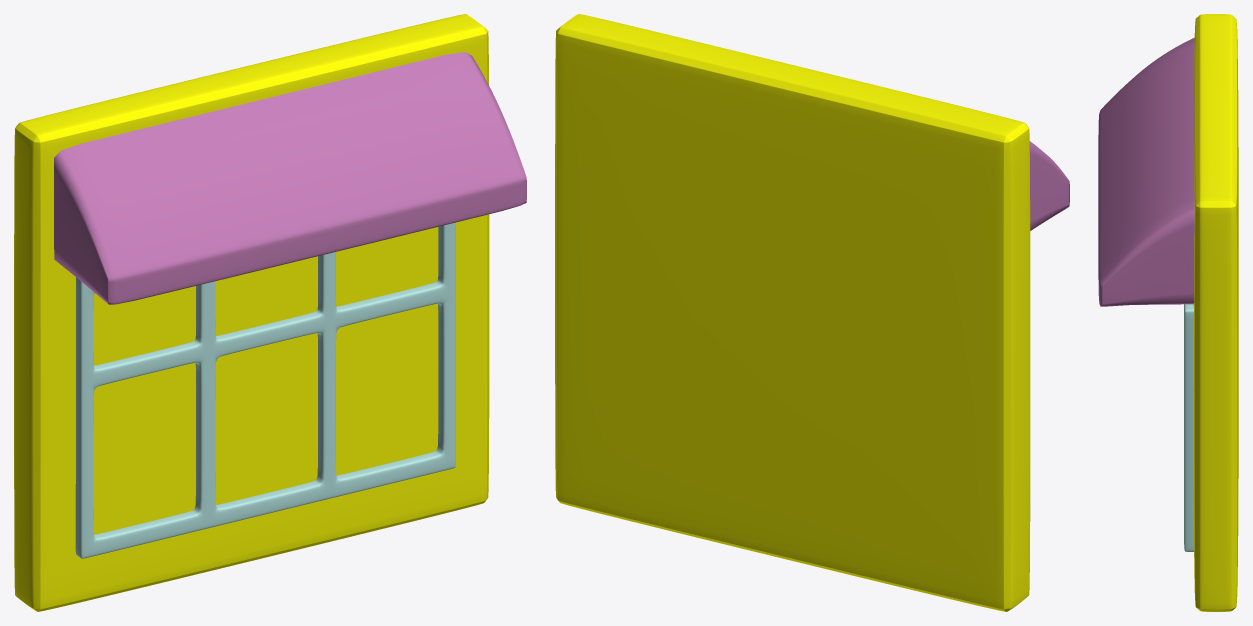
The picture shows the model from 3 angles, left to right: view 1: azimuth 30°, elevation 25°; view 2: azimuth 150°, elevation 25°; view 3: azimuth 270°, elevation 25°; orthographic projection. The views are drawn at different scales.
Parts seen in each view (by area): view 1: pCube673; view 2: pCube673; view 3: pCube673.
Boxes of the visible parts, x1,y1,x2,y2 form: pCube673: (14, 14, 526, 611); pCube673: (555, 14, 1069, 611); pCube673: (1098, 14, 1238, 611).
Bounding box in the file's own units: 0.9995 × 0.9995 × 0.3081.
